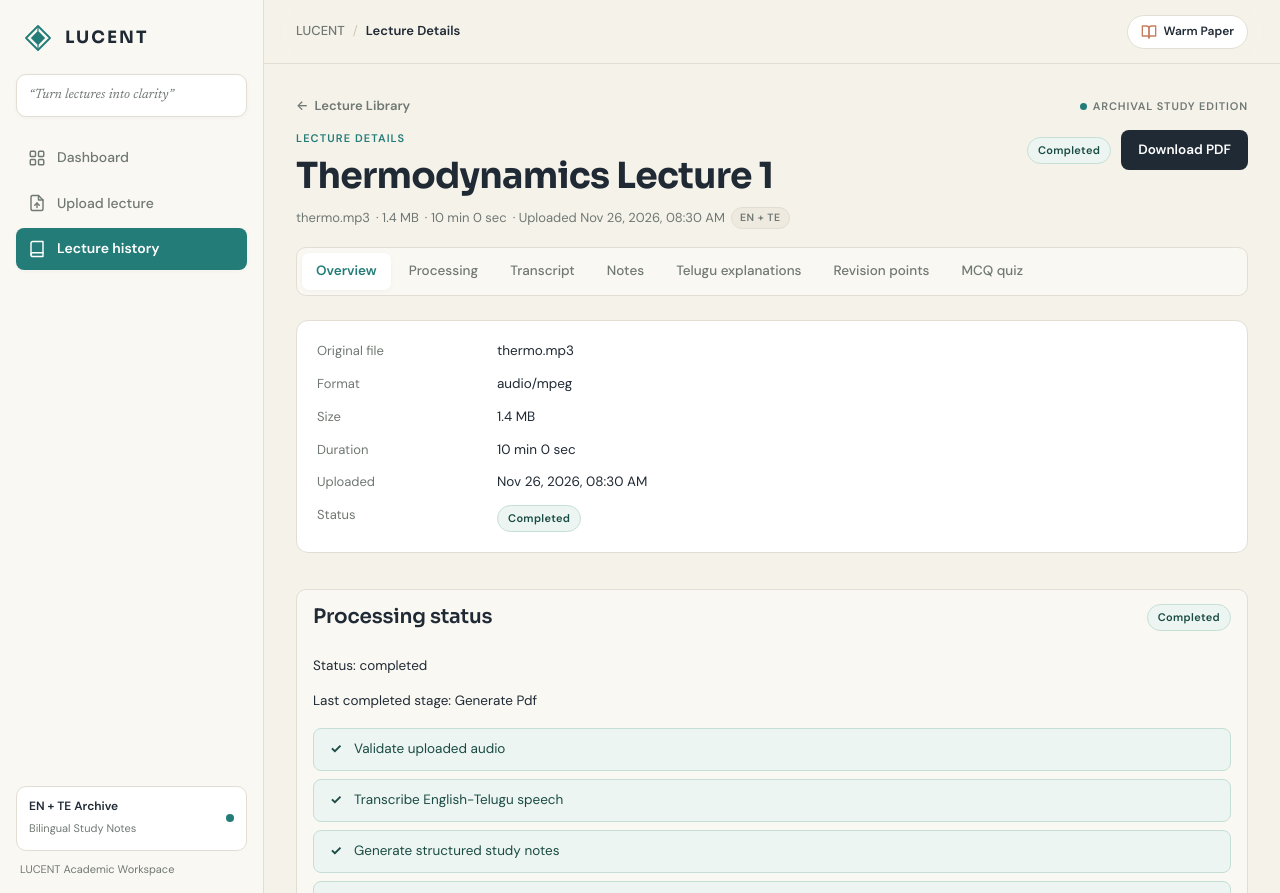
Test case: Study workspace, quiz, PDF, and saved-output reuse › reopens completed outputs across tabs without duplicating AI calls or re-fetching cached tabs
Later steps or results of the test are not shown.
Expected: the heading "Thermodynamics Lecture 1" is shown, [296, 155, 790, 197]
# Navigate to Notes
Click the link "Notes" at [625, 270], box [607, 262, 644, 279]
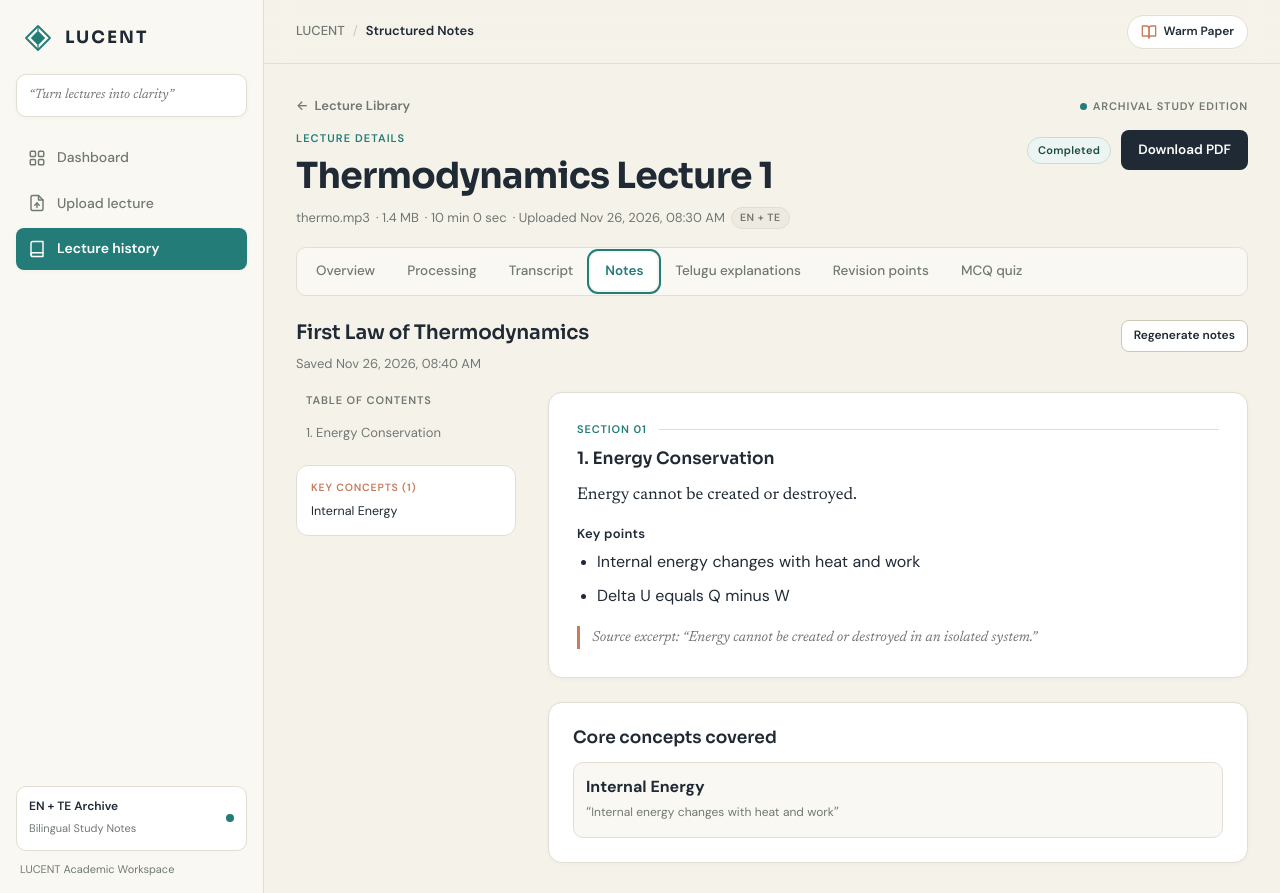
Expected: the heading "First Law of Thermodynamics" is shown, [296, 320, 589, 346]
Expected: the list item "Internal energy changes with heat and work" is shown, [597, 553, 920, 575]
# Navigate to Telugu Explanations
Click the link "Telugu explanations" at [738, 270], box [676, 262, 801, 279]
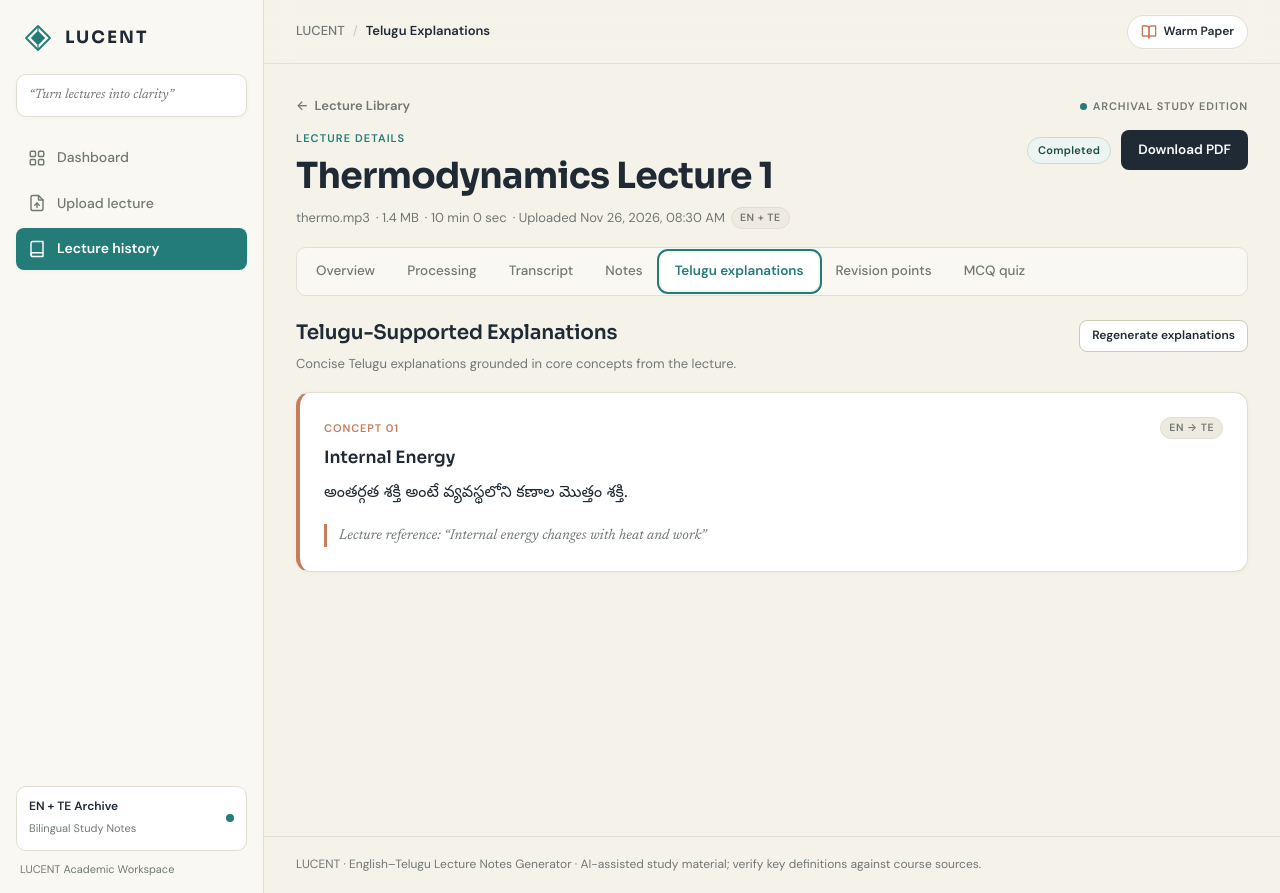
Expected: the text "అంతర్గత శక్తి అంటే వ్యవస్థలోని కణాల మొత్తం శక్తి." is shown, [324, 483, 628, 505]
# Navigate to Revision Points
Click the link "Revision points" at [884, 270], box [836, 262, 932, 279]
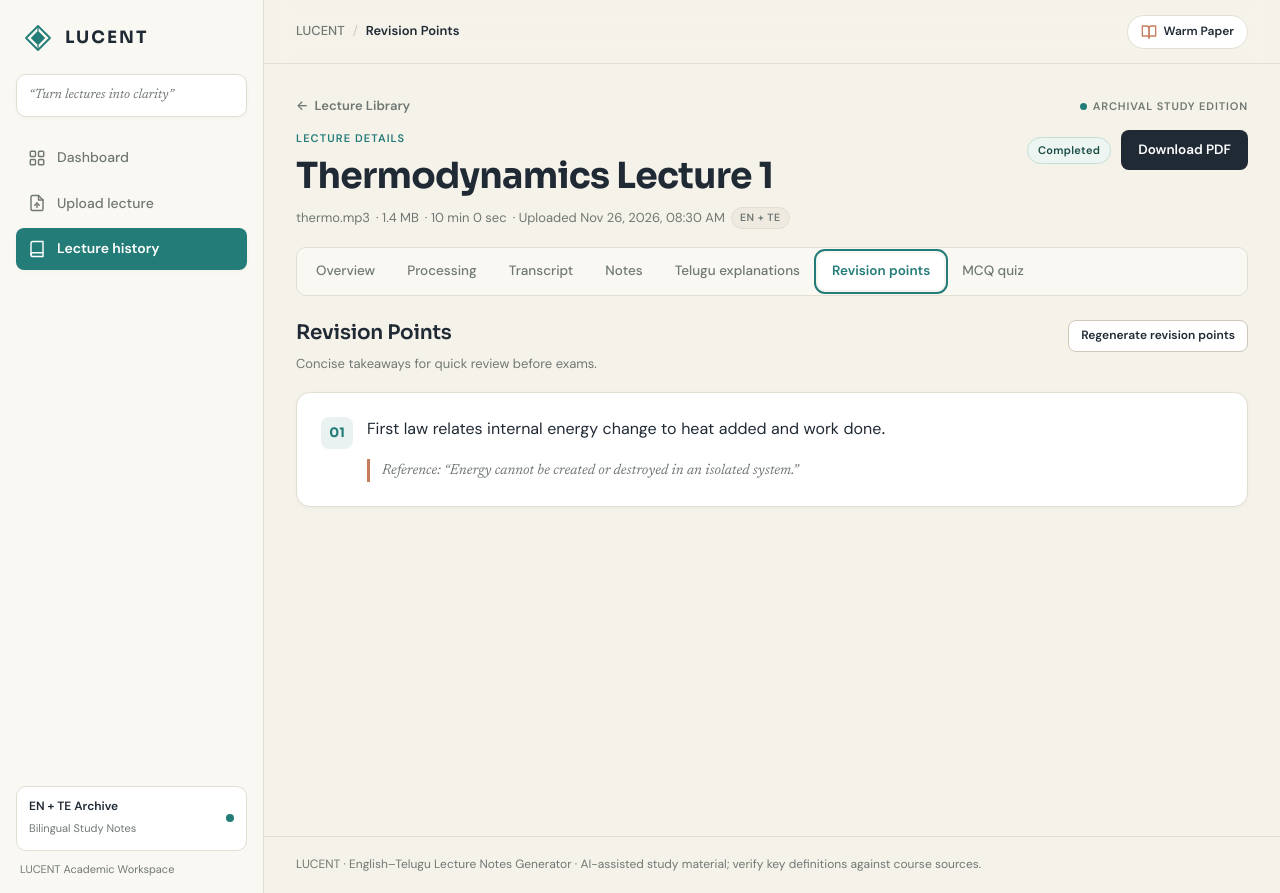
Expected: the text "First law relates internal energy change to heat added and work done." is shown, [367, 420, 886, 442]
Click the link "Notes" at [624, 270], box [605, 262, 643, 279]
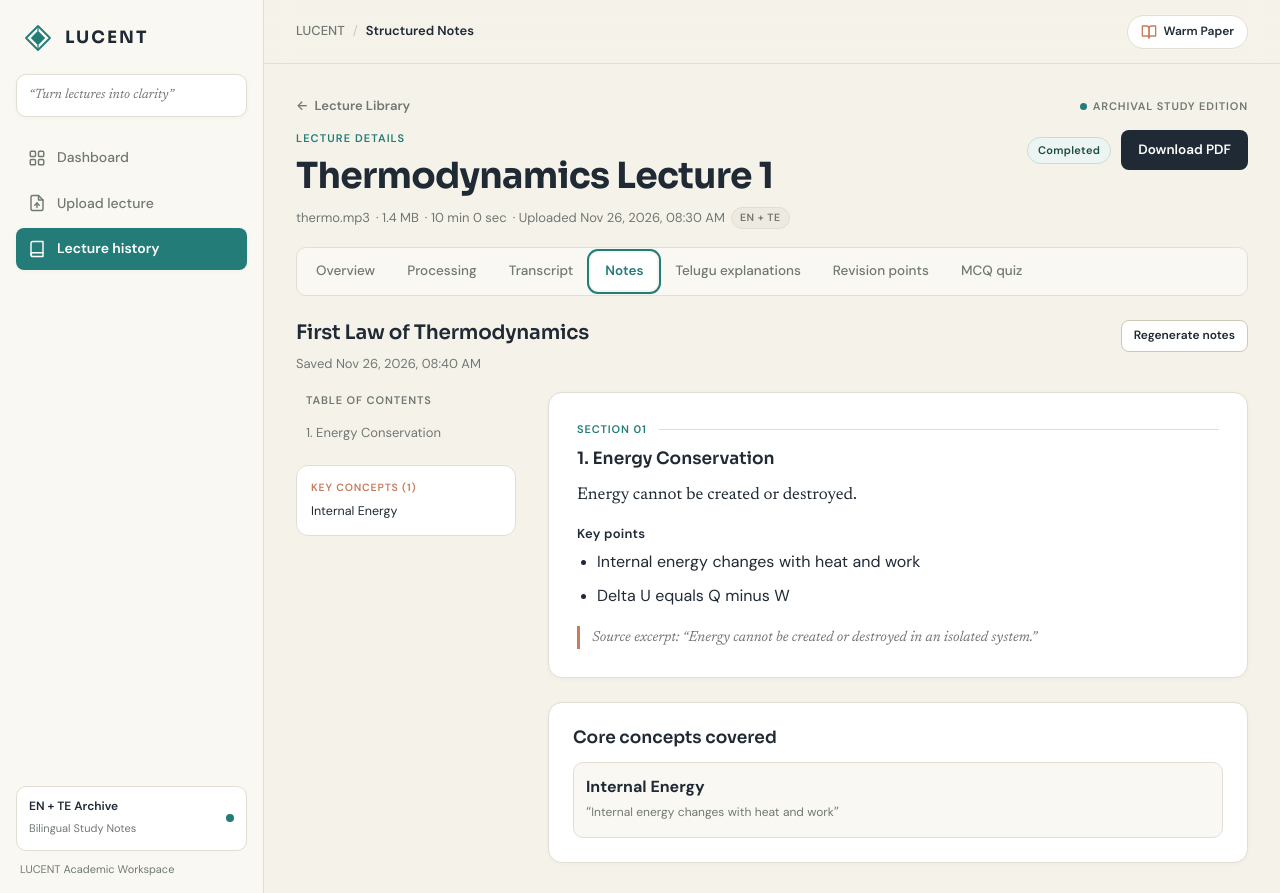
Expected: the heading "First Law of Thermodynamics" is shown, [296, 320, 589, 346]
